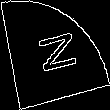N_W: (30, 30, 80, 80)
